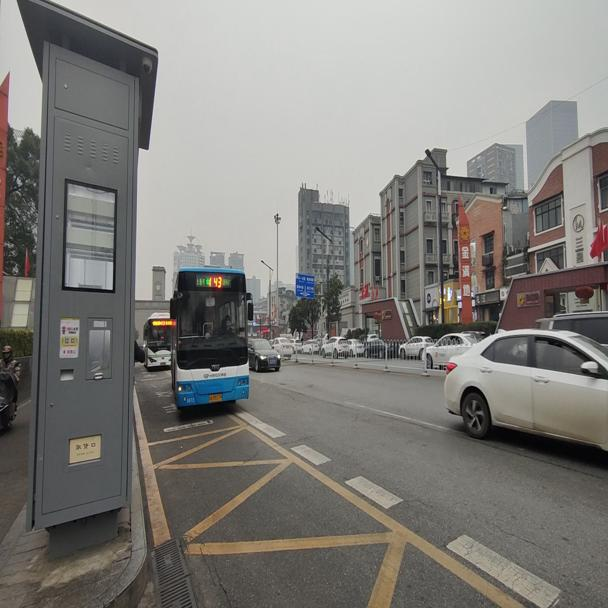bus: (169, 265, 253, 413), (141, 310, 171, 370)
screen: (207, 275, 223, 289)
